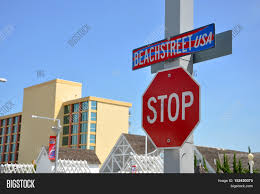Stop: (136, 70, 213, 145)
